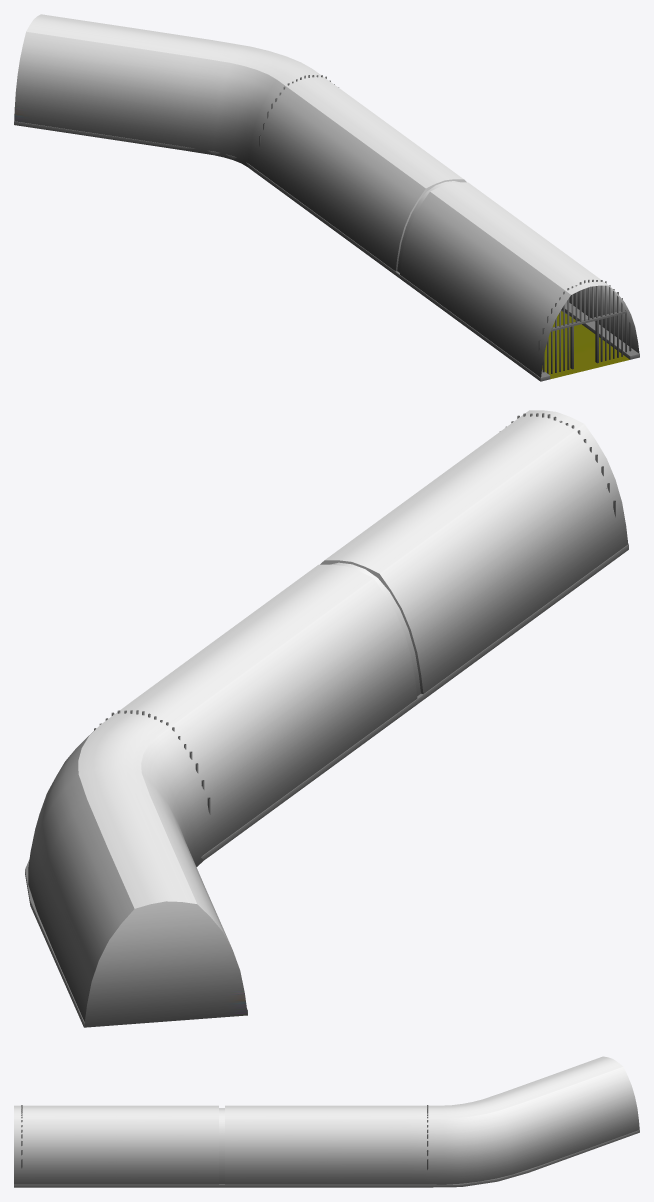
The model's file is Sewer.FBX.
The picture shows the model from 3 angles, top to bottom: view 1: azimuth 30°, elevation 25°; view 2: azimuth 150°, elevation 25°; view 3: azimuth 270°, elevation 25°; orthographic projection. The views are drawn at different scales.
Visible parts, largest first — view 1: Sewer Tunnel; view 2: Sewer Tunnel; view 3: Sewer Tunnel.
Part boxes in pixels (box(x1,y1,x2,y2)): Sewer Tunnel: box(14, 14, 639, 381); Sewer Tunnel: box(25, 410, 628, 1027); Sewer Tunnel: box(14, 1056, 639, 1187).
Size of the model in its own units: 1827 by 642 by 5903.
Materials: 1 (1 with a texture image).
